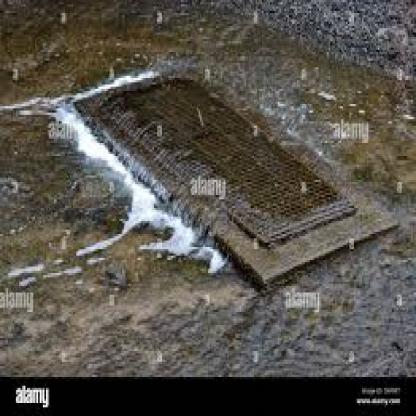drainage overflow-repair-: (25, 18, 376, 338)
